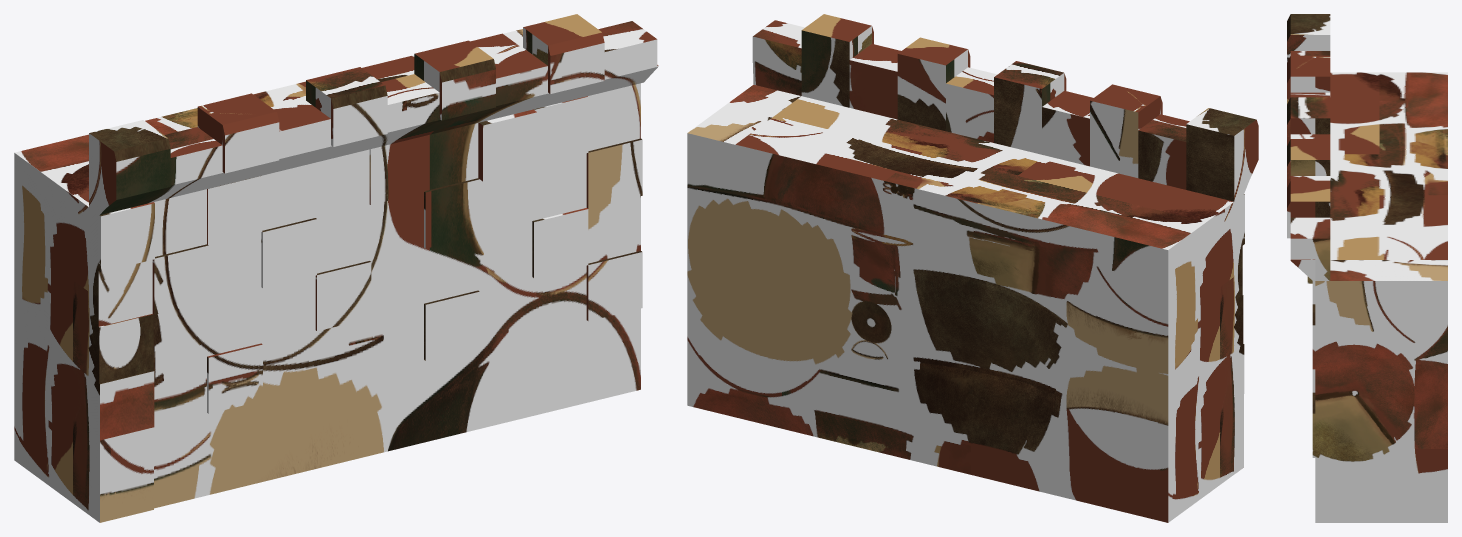
The model's file is wall.obj.
3 renders of one model, left to right at view 1: azimuth 30°, elevation 25°; view 2: azimuth 150°, elevation 25°; view 3: azimuth 270°, elevation 25°, orthographic. The views are drawn at different scales.
Parts seen in each view (by area): view 1: tall_wall; view 2: tall_wall; view 3: tall_wall.
Boxes of the visible parts, x1=… form: tall_wall: x1=14, y1=14, x2=658, y2=522; tall_wall: x1=687, y1=14, x2=1258, y2=522; tall_wall: x1=1287, y1=14, x2=1447, y2=522.
Bounding box in the file's own units: 23.98 × 16.07 × 7.79.
